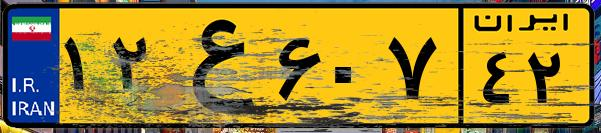0: (330, 28, 385, 110)
1: (57, 26, 110, 100)
2: (525, 38, 570, 115), (110, 28, 158, 98)
4: (475, 38, 525, 113)
6: (270, 28, 330, 110)
7: (385, 28, 445, 110)
ع: (158, 12, 270, 120)
